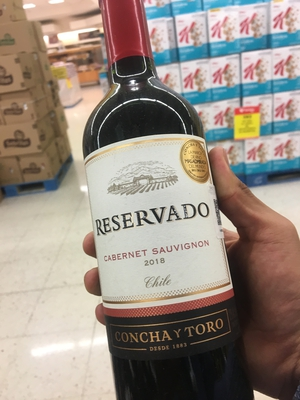reservado cabernet sauvignon: (80, 3, 248, 400)
